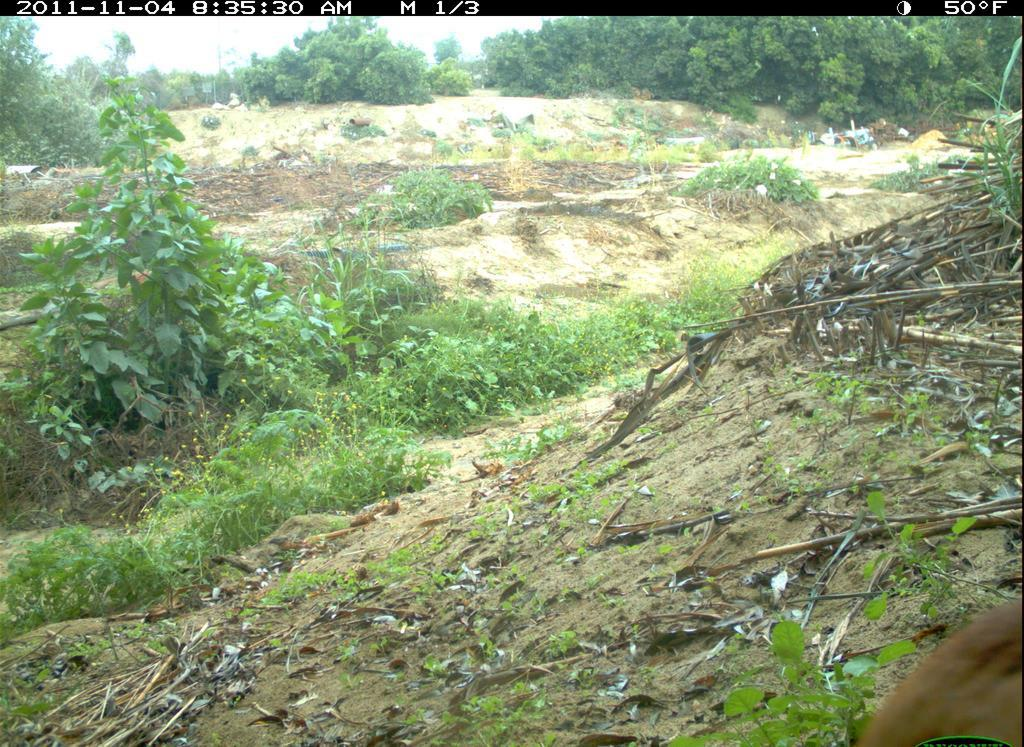dog: (830, 594, 1021, 747)
